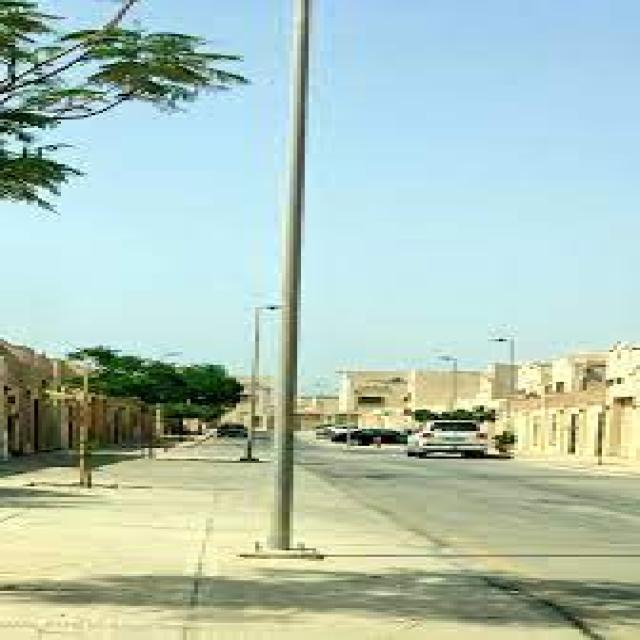Street Light: (236, 303, 278, 465), (492, 337, 518, 416)
